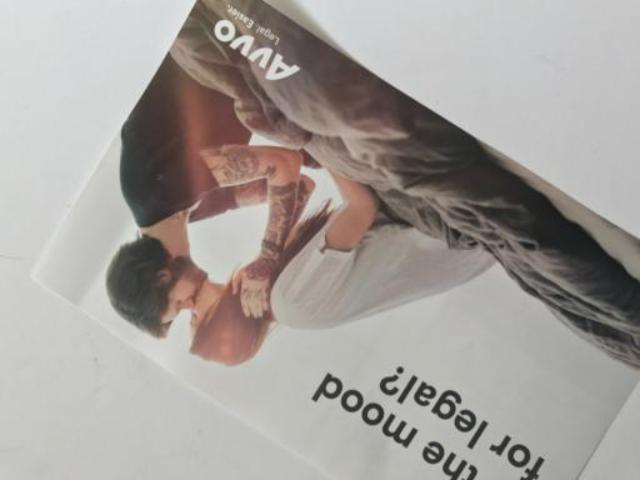cardboard paper: (30, 0, 640, 480)
